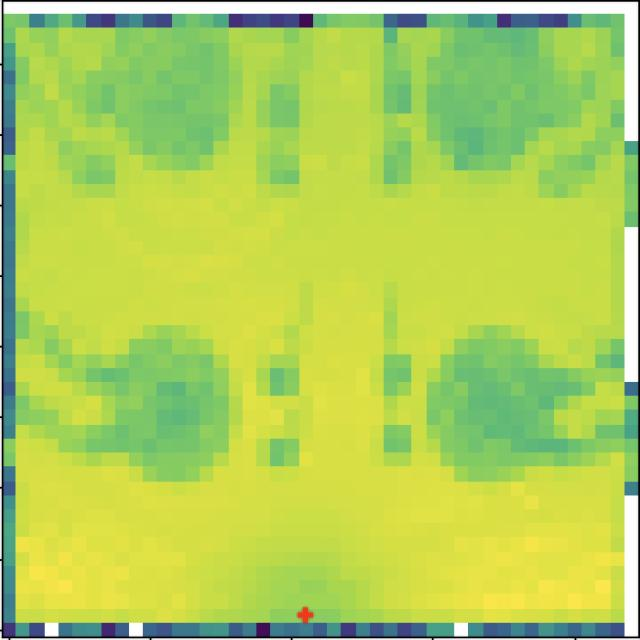Concrete: (83, 317, 240, 490)
Glass: (426, 316, 590, 484)
Metal: (95, 34, 249, 174)
Wood: (432, 31, 556, 184)
